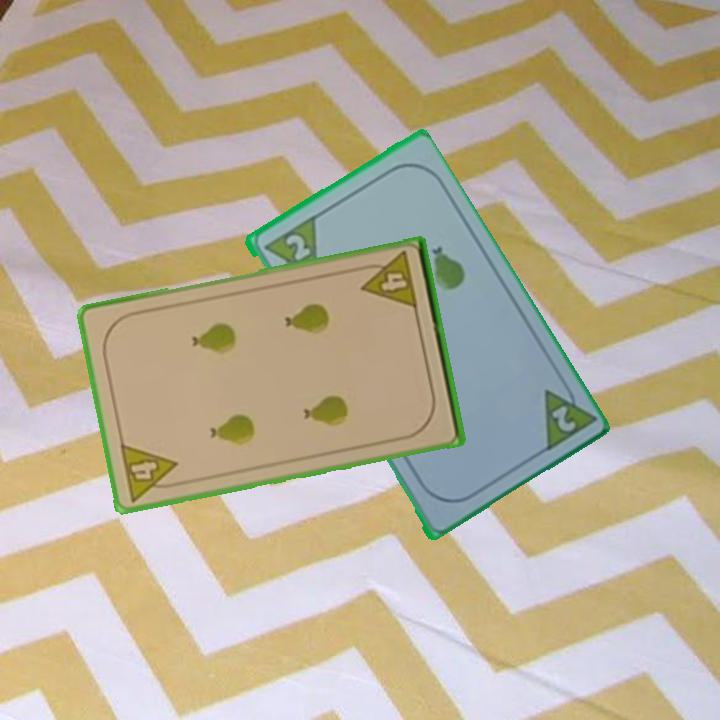2p: (281, 230, 313, 264), (547, 401, 579, 435)
4p: (116, 440, 184, 504), (355, 248, 420, 313)
